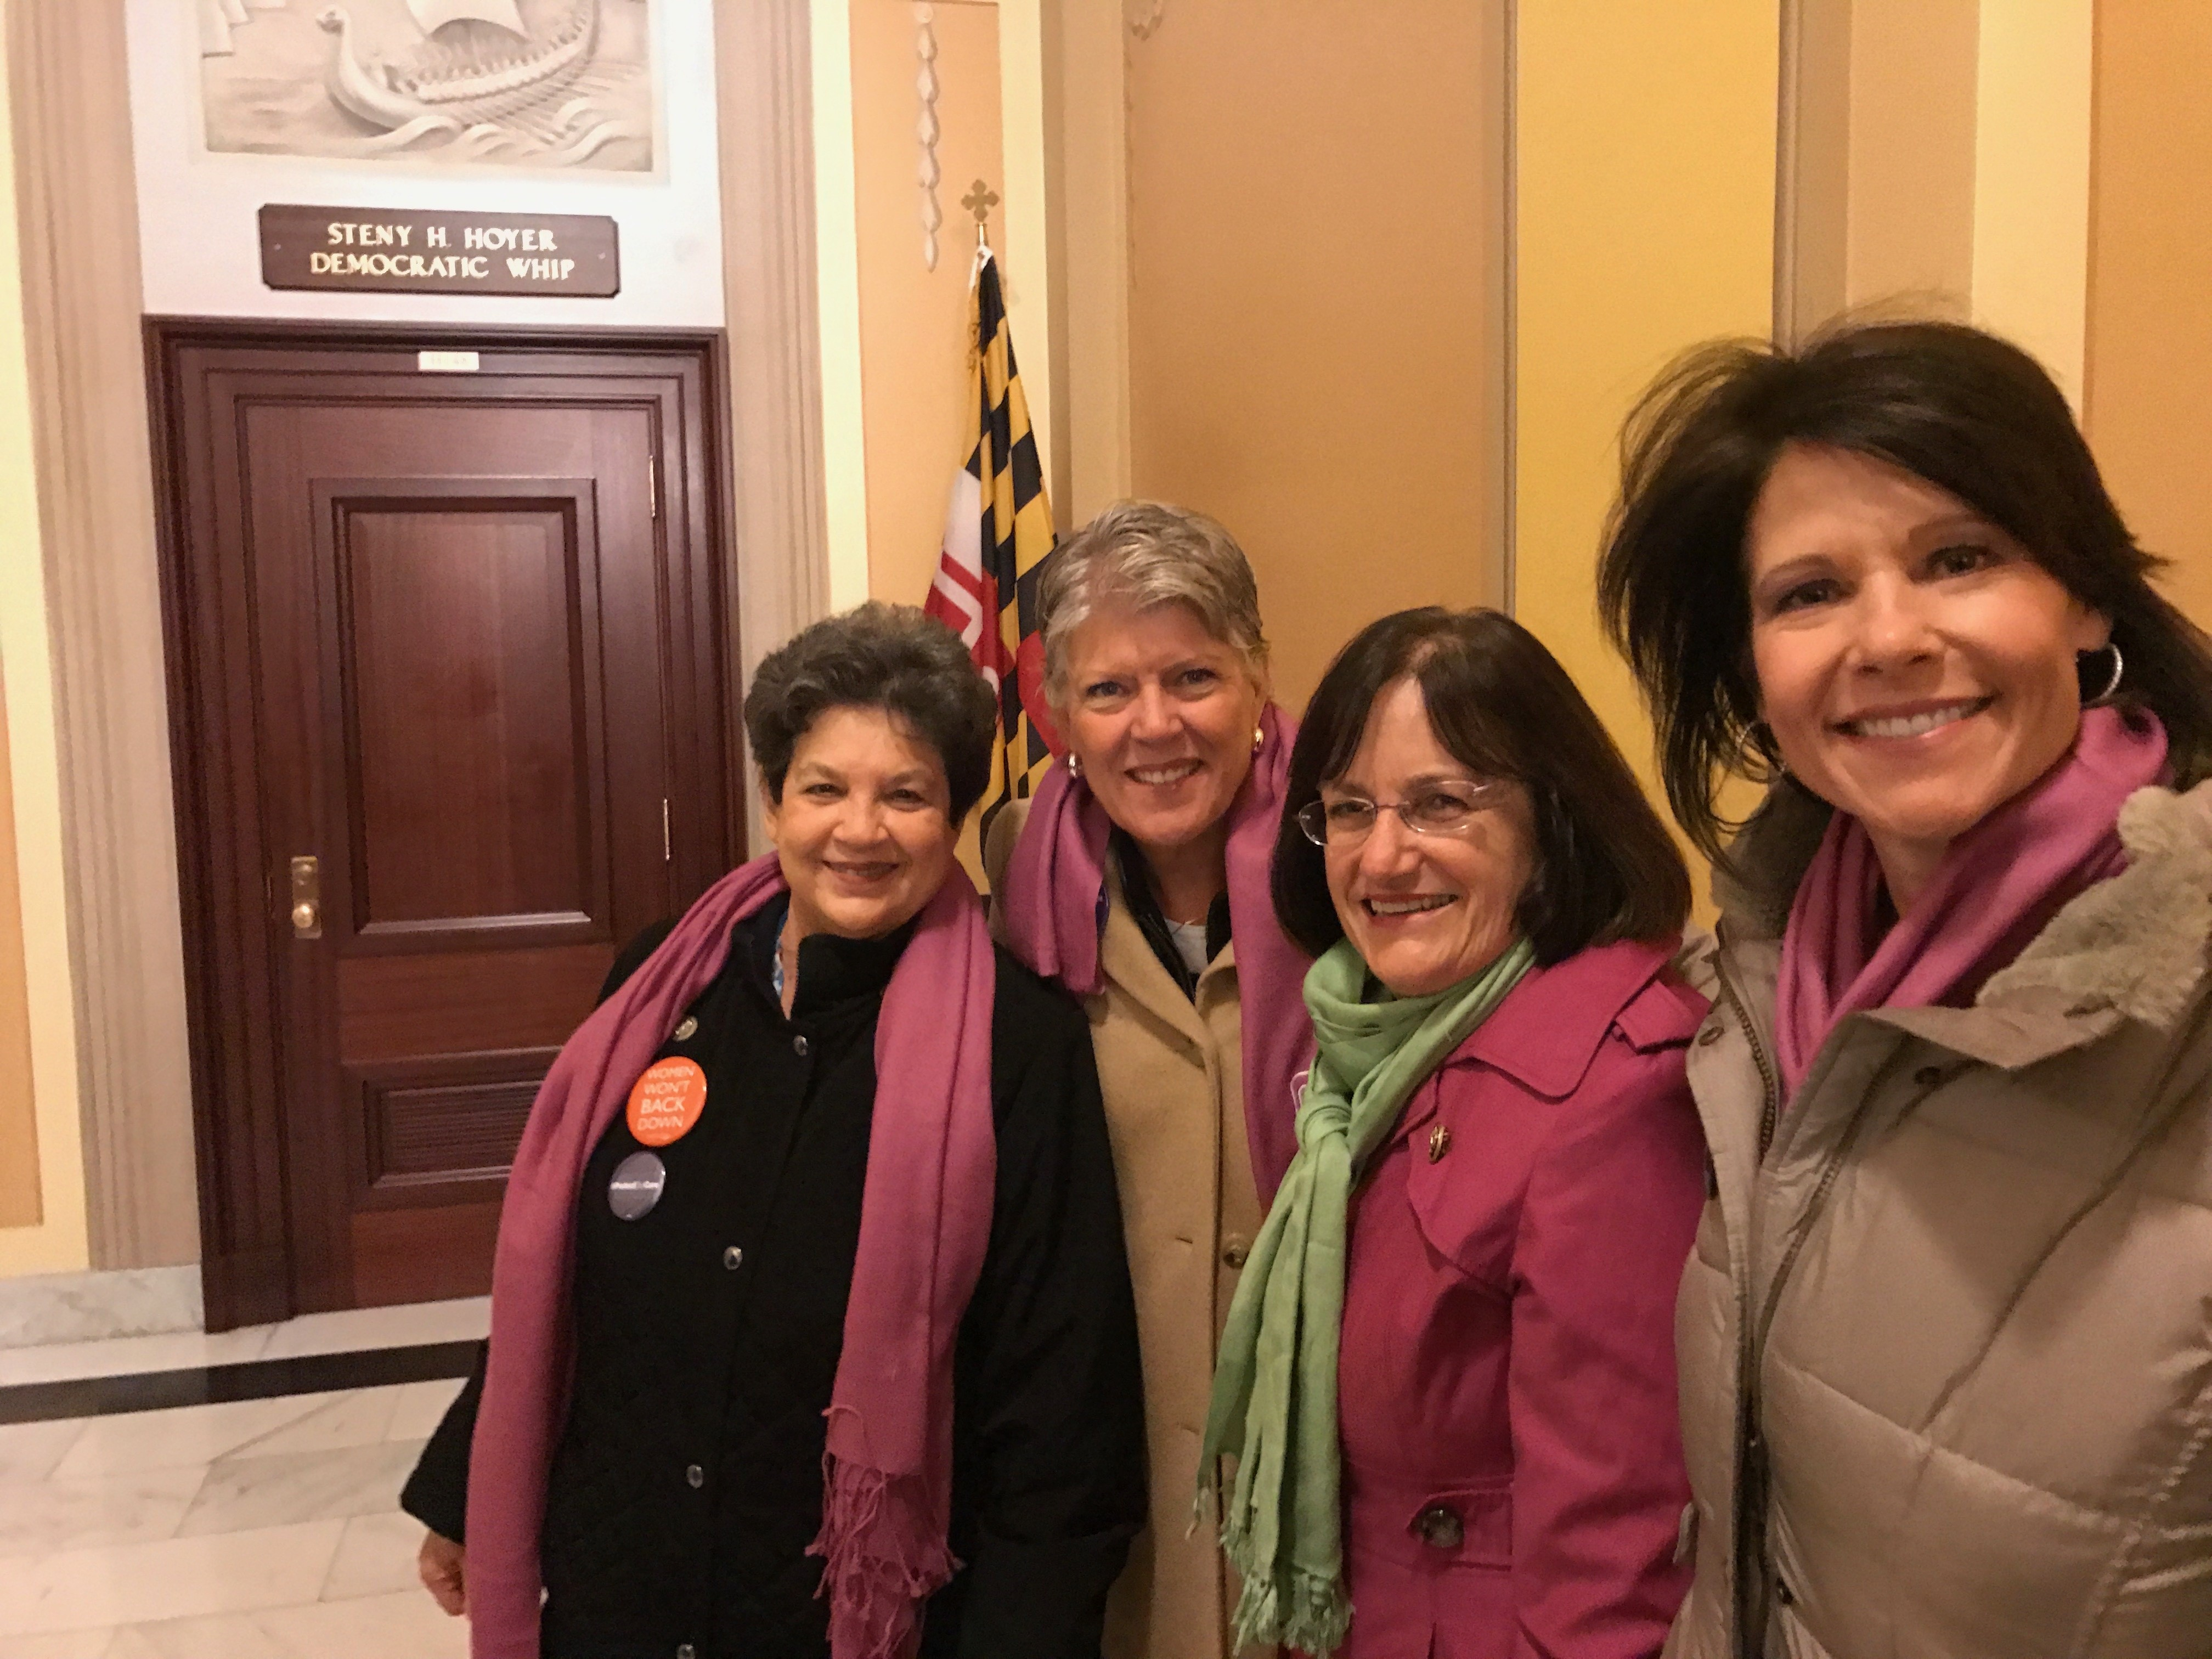face_no_mask: (1745, 336, 2119, 842), (1296, 641, 1568, 1008), (735, 620, 995, 938), (1027, 521, 1268, 842)
